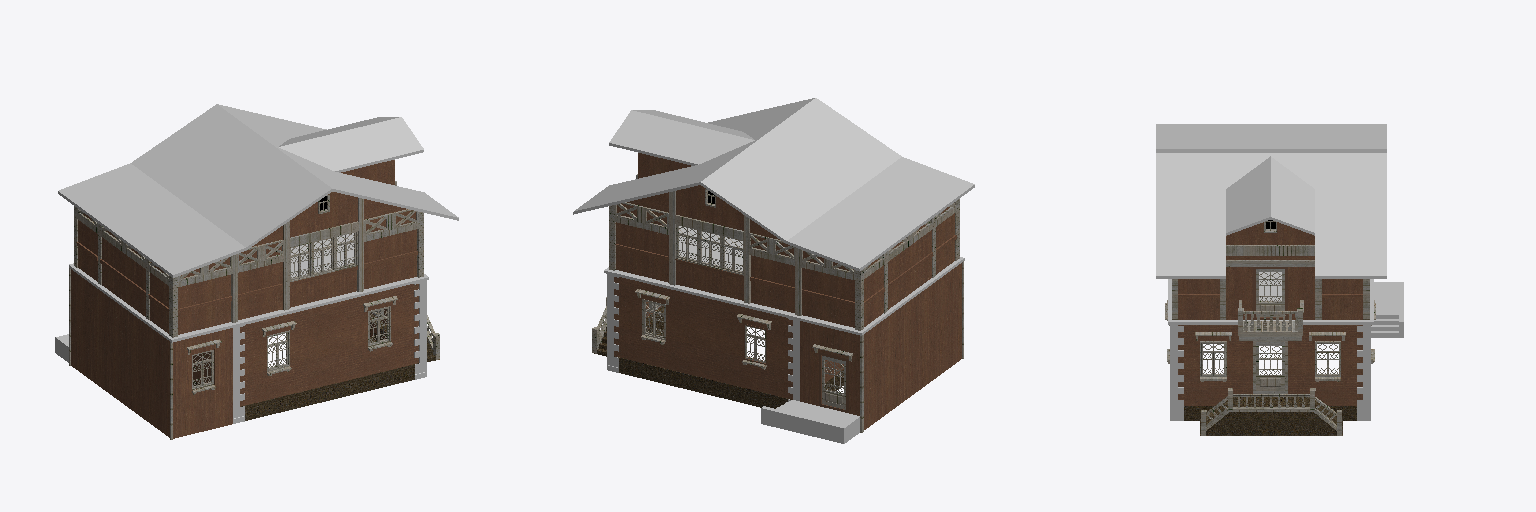
3 renders of one model, left to right at view 1: azimuth 30°, elevation 25°; view 2: azimuth 150°, elevation 25°; view 3: azimuth 270°, elevation 25°, orthographic.
Parts seen in each view (by area): view 1: Object_378, Object_340, Object_306, Object_376, Object_226, Object_338, Object_82, Object_78, Object_80, Object_84, Object_374, Object_74 (+6 smaller); view 2: Object_378, Object_340, Object_306, Object_376, Object_226, Object_338, Object_360, Object_78, Object_82, Object_84, Object_80, Object_386 (+9 smaller); view 3: Object_378, Object_306, Object_376, Object_344, Object_74, Object_76, Object_226, Object_372, Object_360, Object_626, Object_236, Object_250 (+6 smaller).
Boxes of the visible parts, x1=… form: Object_378: x1=58, y1=104, x2=458, y2=277; Object_340: x1=71, y1=269, x2=232, y2=438; Object_306: x1=193, y1=284, x2=418, y2=406; Object_376: x1=279, y1=117, x2=423, y2=172; Object_226: x1=69, y1=233, x2=428, y2=342; Object_338: x1=193, y1=323, x2=418, y2=420; Object_82: x1=178, y1=275, x2=230, y2=334; Object_78: x1=364, y1=229, x2=416, y2=288; Object_80: x1=238, y1=262, x2=282, y2=319; Object_84: x1=102, y1=237, x2=145, y2=316; Object_374: x1=290, y1=192, x2=357, y2=237; Object_74: x1=78, y1=220, x2=168, y2=333; Object_378: x1=573, y1=98, x2=974, y2=271; Object_340: x1=800, y1=263, x2=961, y2=429; Object_306: x1=614, y1=277, x2=843, y2=399; Object_376: x1=609, y1=110, x2=754, y2=165; Object_226: x1=604, y1=226, x2=964, y2=335; Object_338: x1=614, y1=315, x2=843, y2=408; Object_360: x1=761, y1=402, x2=859, y2=443; Object_78: x1=616, y1=222, x2=668, y2=282; Object_82: x1=802, y1=268, x2=854, y2=327; Object_84: x1=888, y1=230, x2=931, y2=309; Object_80: x1=751, y1=255, x2=794, y2=312; Object_386: x1=676, y1=185, x2=743, y2=230; Object_378: x1=1156, y1=124, x2=1386, y2=278; Object_306: x1=1178, y1=325, x2=1362, y2=405; Object_376: x1=1226, y1=156, x2=1314, y2=235; Object_344: x1=1200, y1=397, x2=1342, y2=435; Object_74: x1=1178, y1=279, x2=1362, y2=319; Object_76: x1=1226, y1=267, x2=1314, y2=319; Object_226: x1=1168, y1=272, x2=1373, y2=324; Object_372: x1=1226, y1=222, x2=1314, y2=244; Object_360: x1=1374, y1=282, x2=1403, y2=337; Object_626: x1=1226, y1=245, x2=1314, y2=255; Object_236: x1=1238, y1=321, x2=1302, y2=340; Object_250: x1=1256, y1=342, x2=1284, y2=390.
Size of the model in its own units: 35.99 by 25.99 by 26.75.
9 materials, 3 textured.